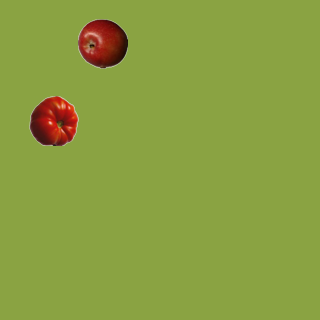Apple Braeburn: (77, 18, 127, 68)
Tomato 3: (28, 95, 78, 145)
